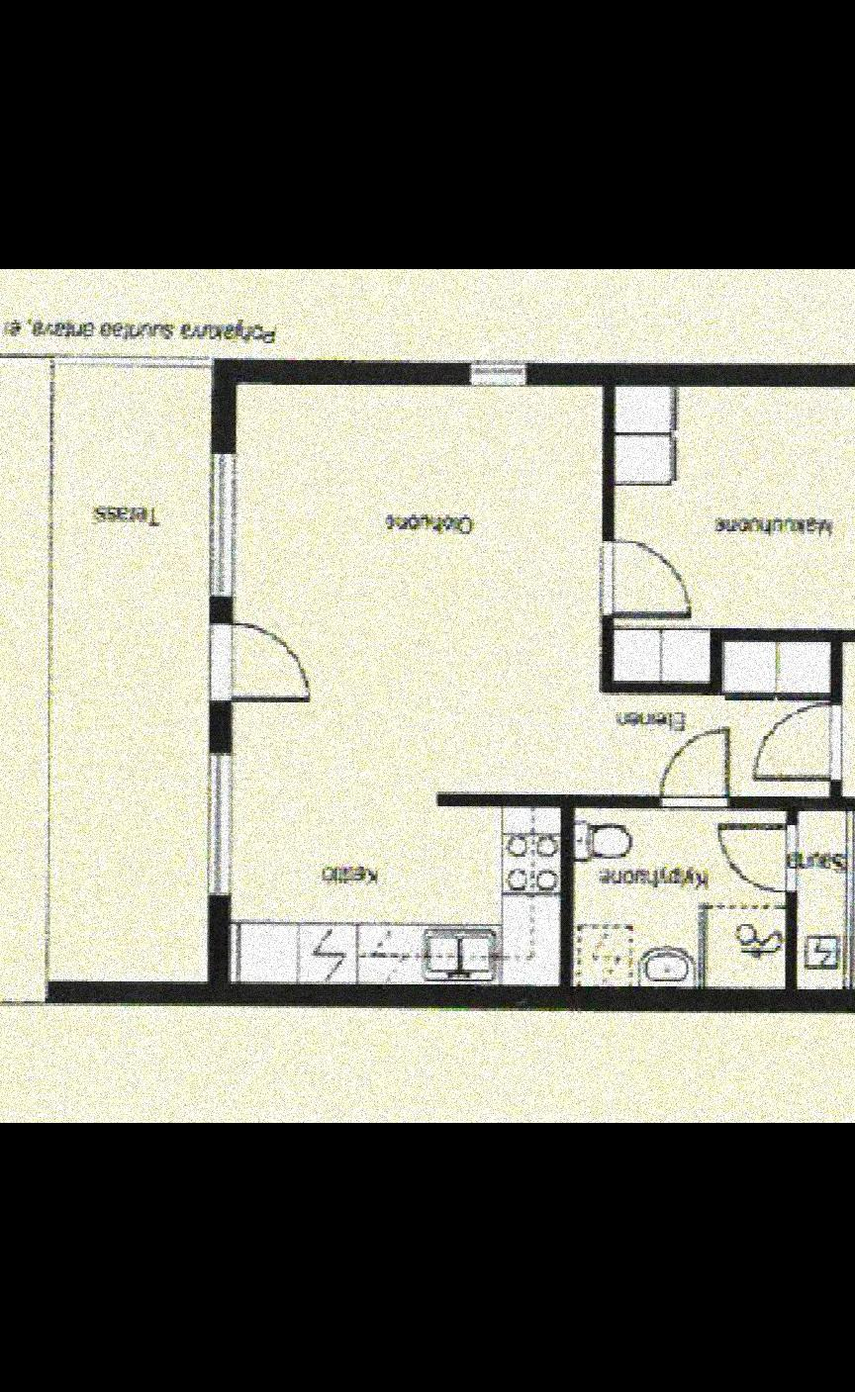door: (209, 614, 315, 708), (602, 538, 693, 615), (660, 726, 736, 809), (716, 828, 800, 902), (753, 705, 835, 780)
window: (210, 744, 238, 900), (210, 453, 238, 599), (469, 355, 525, 389)
zone: (229, 383, 606, 987), (55, 364, 210, 978), (614, 393, 855, 626), (570, 810, 785, 984), (611, 645, 823, 797), (0, 359, 48, 998), (794, 809, 855, 988), (839, 644, 855, 802)
